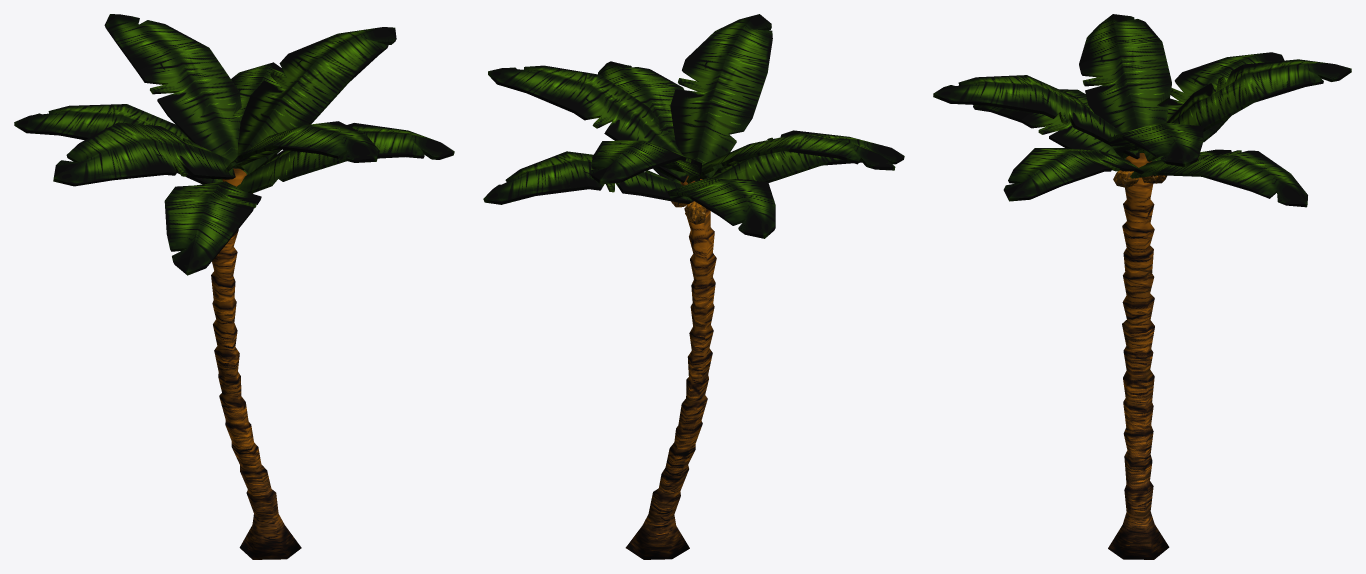
The model's file is Palme_C12.fbx.
The picture shows the model from 3 angles, left to right: view 1: azimuth 30°, elevation 25°; view 2: azimuth 150°, elevation 25°; view 3: azimuth 270°, elevation 25°; orthographic projection. The views are drawn at different scales.
Parts seen in each view (by area): view 1: PalbeSubs.002; view 2: PalbeSubs.002; view 3: PalbeSubs.002.
Boxes of the visible parts, x1,y1,x2,y2 form: PalbeSubs.002: (14, 14, 454, 559); PalbeSubs.002: (483, 14, 904, 559); PalbeSubs.002: (933, 14, 1351, 559).
Size of the model in its own units: 1539 by 1839 by 1513.
3 materials, 3 textured.
